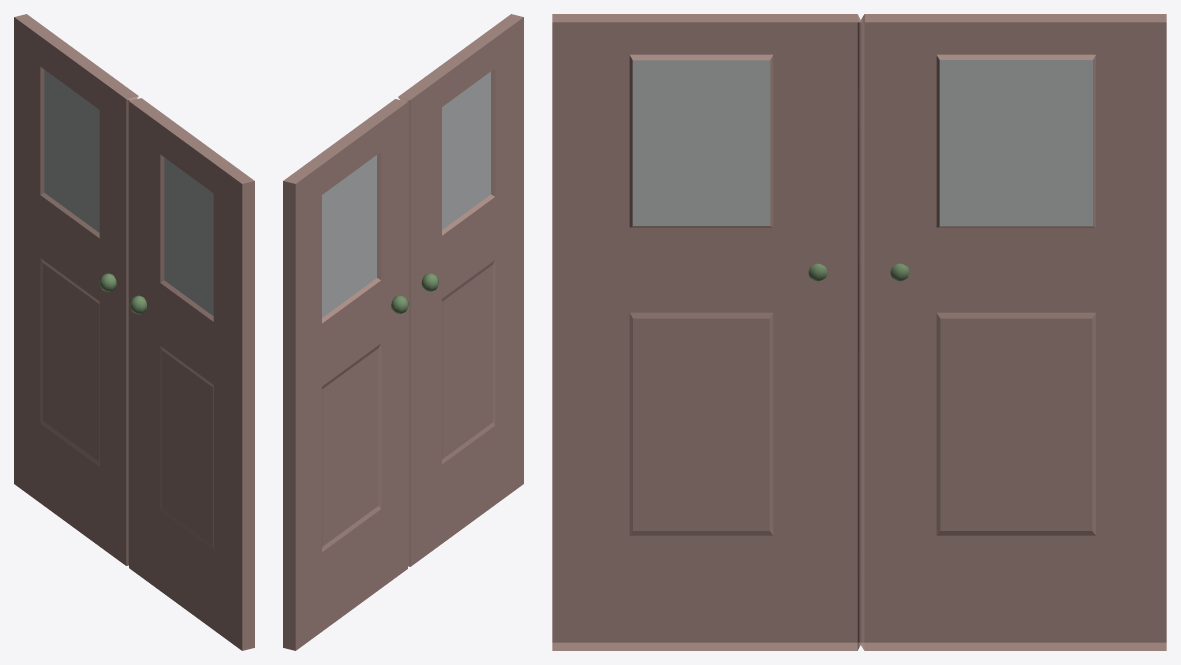
Rendered from DoorFront.fbx.
3 renders of one model, left to right at view 1: azimuth 30°, elevation 25°; view 2: azimuth 150°, elevation 25°; view 3: azimuth 270°, elevation 25°, orthographic. The views are drawn at different scales.
Visible parts, largest first — view 1: pCube82; view 2: pCube82; view 3: pCube82.
Part boxes in pixels (x1,y1,x2,y2): pCube82: (14, 14, 254, 650); pCube82: (283, 14, 523, 650); pCube82: (552, 14, 1166, 650).
Bounding box in the file's own units: 0.1691 × 2.94 × 2.6.
